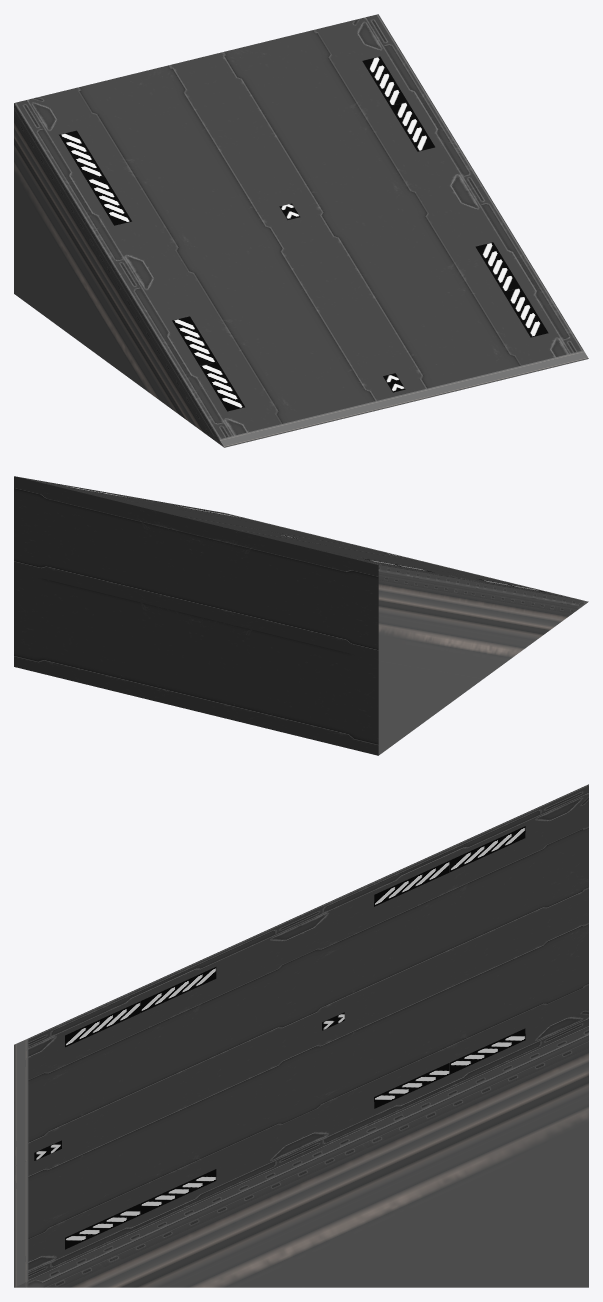
Rendered from Platform_Ramp_4Wide.gltf.
The picture shows the model from 3 angles, top to bottom: view 1: azimuth 30°, elevation 25°; view 2: azimuth 150°, elevation 25°; view 3: azimuth 270°, elevation 25°; orthographic projection. The views are drawn at different scales.
Visible parts, largest first — view 1: Platform_Ramp_4Wide; view 2: Platform_Ramp_4Wide; view 3: Platform_Ramp_4Wide.
Boxes of the visible parts, x1=… form: Platform_Ramp_4Wide: x1=14, y1=14, x2=588, y2=447; Platform_Ramp_4Wide: x1=14, y1=476, x2=588, y2=755; Platform_Ramp_4Wide: x1=14, y1=784, x2=588, y2=1287.
Bounding box in the file's own units: 4 × 2 × 4.
Materials: 3 (3 with a texture image).
